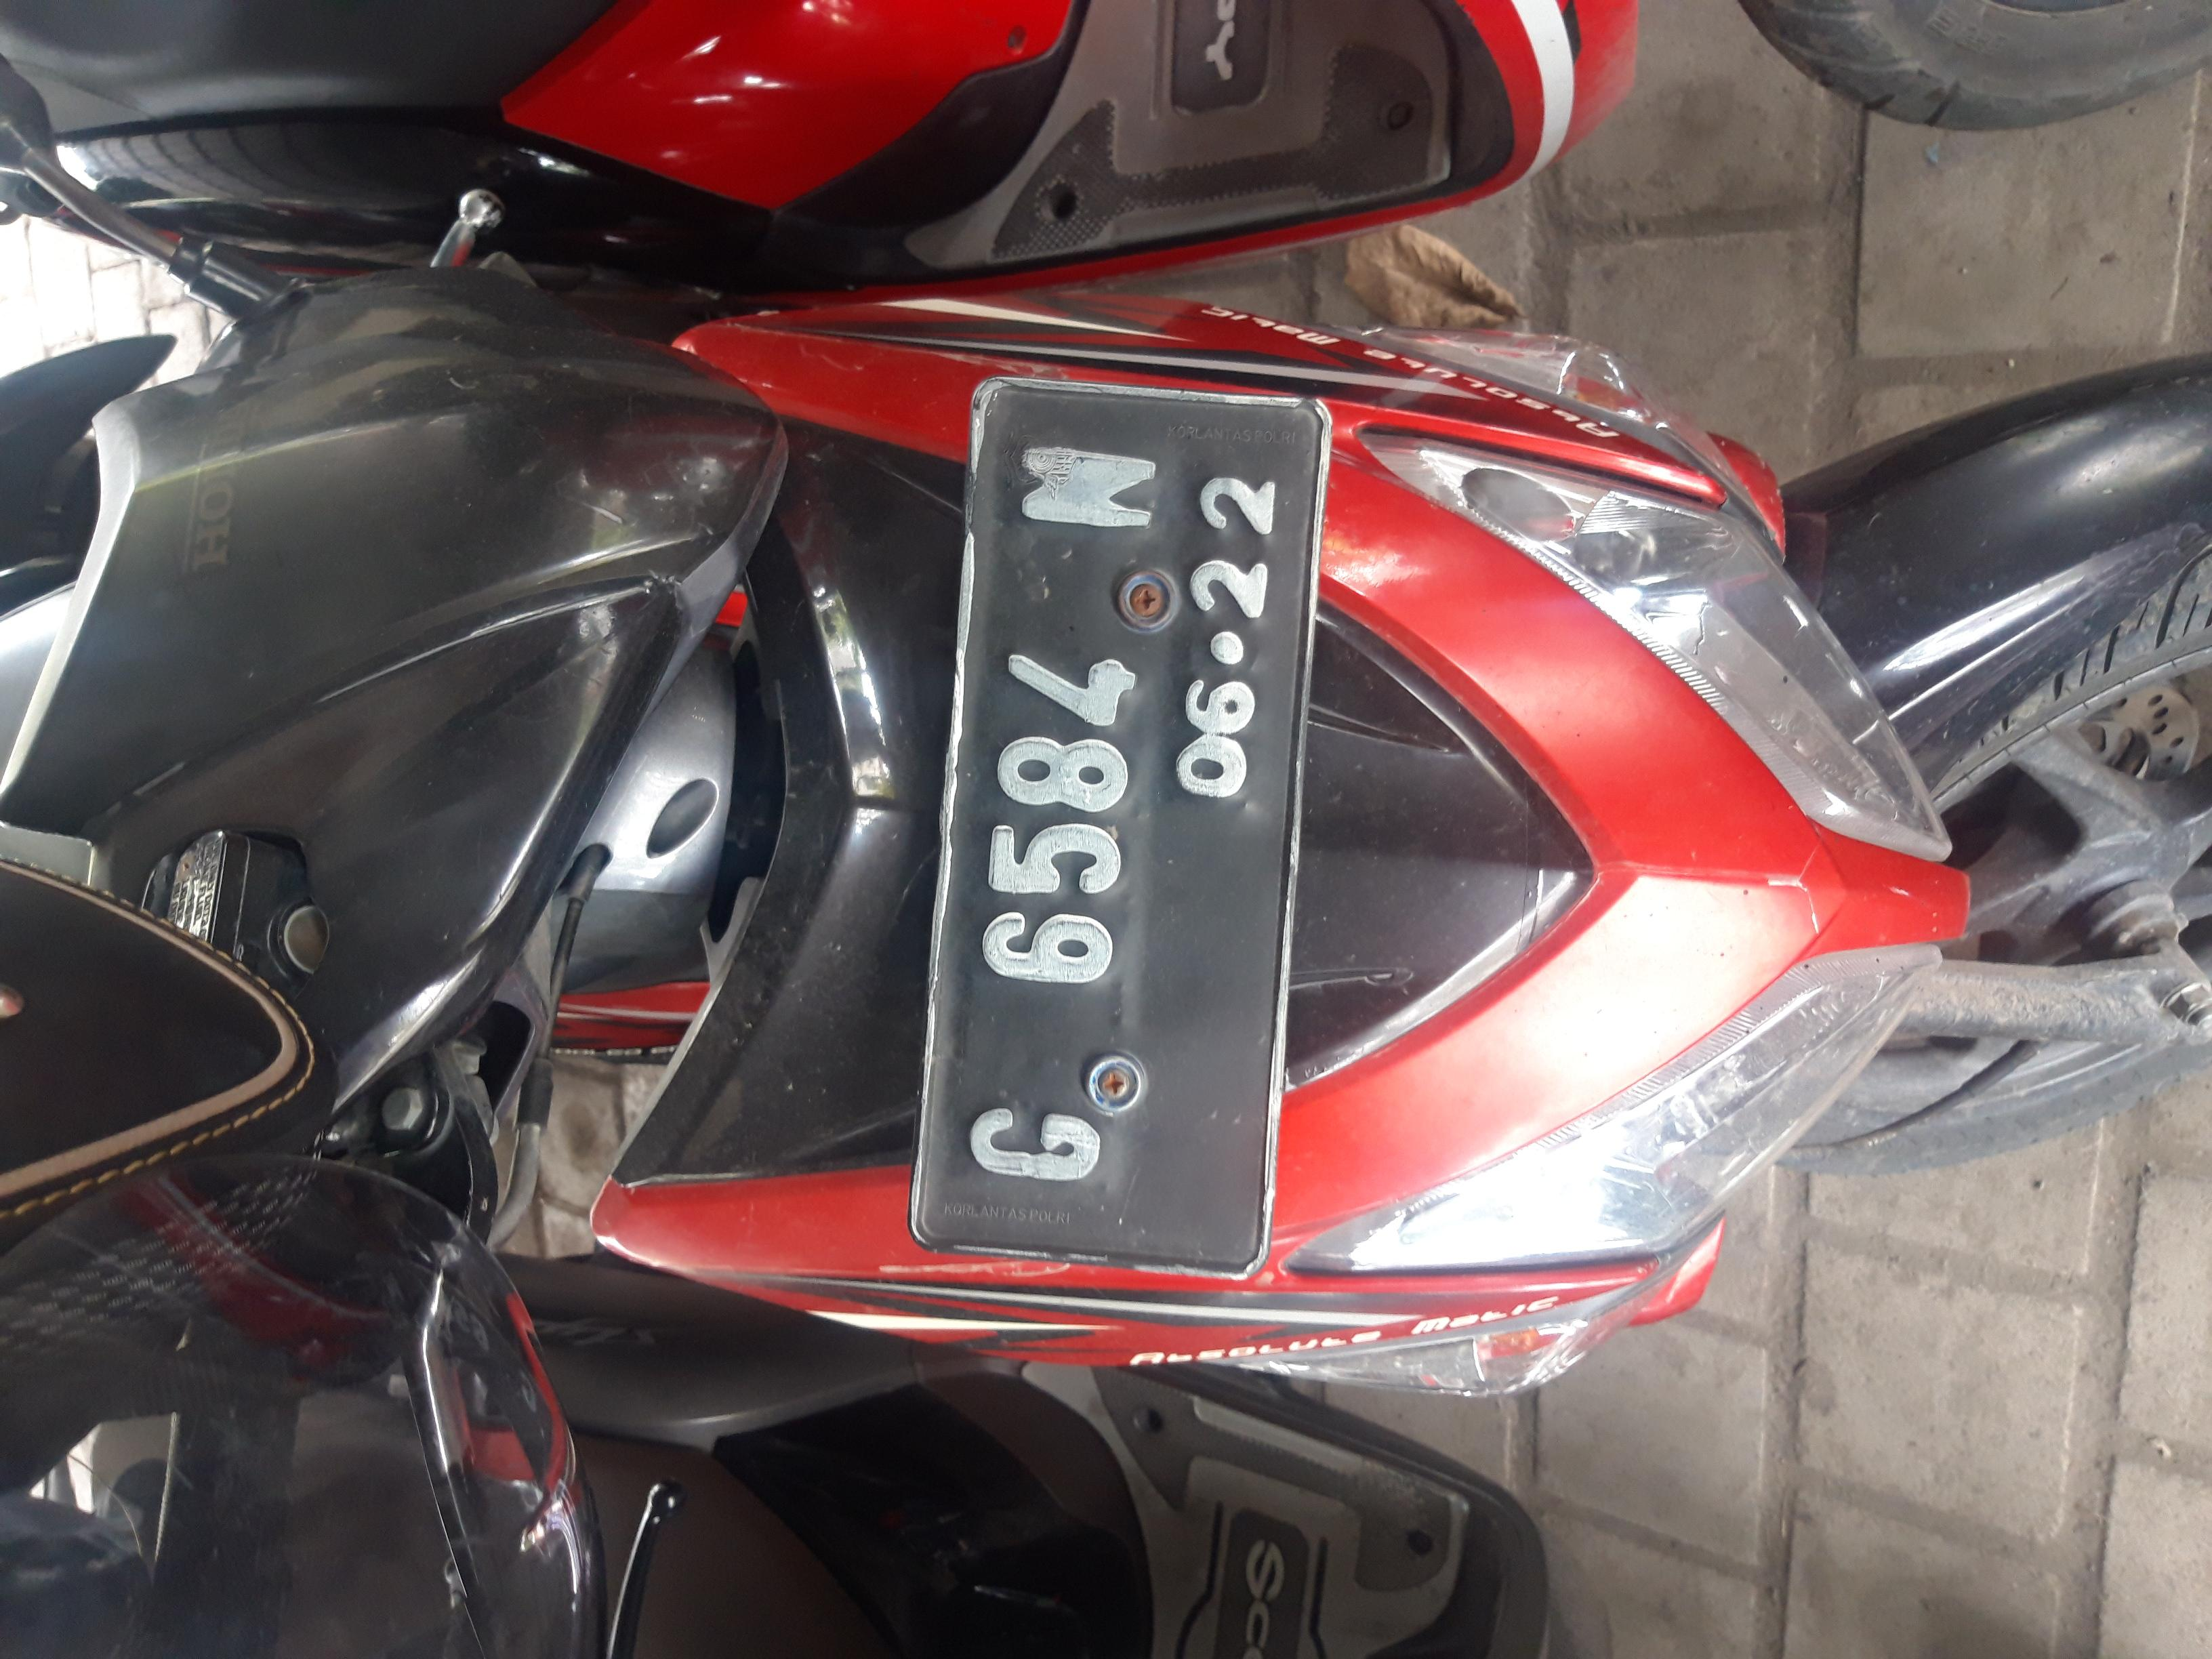plat: (512, 683, 1705, 999)
